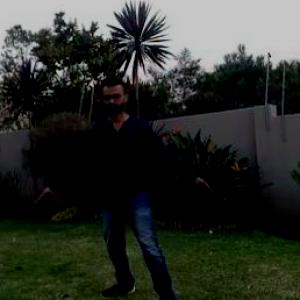land: (25, 64, 218, 299)
